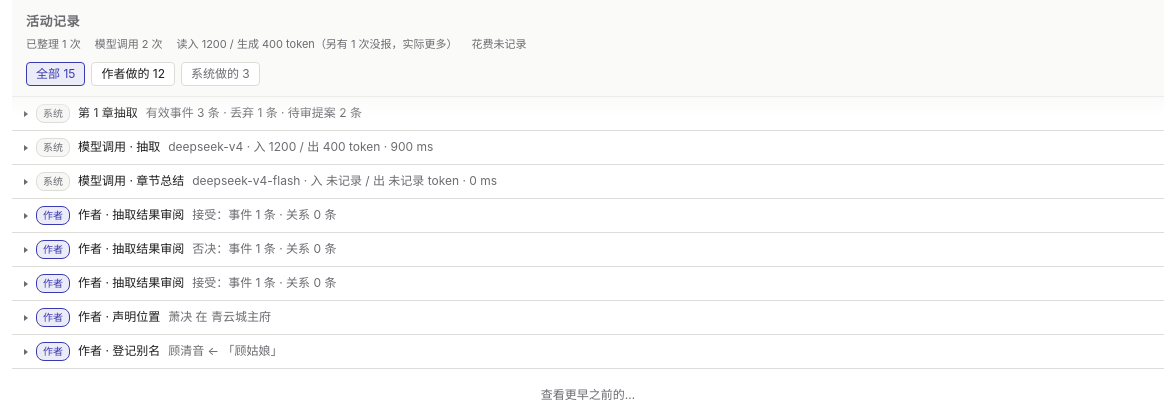
Test: 活动记录 › 作者做的和系统做的一眼分得开，而且能只看其中一种
Expected: the 1st text "作者" is shown, x1=36 y1=206 x2=70 y2=225
Expected: the 1st text "系统" is shown, x1=36 y1=104 x2=70 y2=123
Click the button "作者做的 12".
click(133, 74)  # box x1=91 y1=62 x2=175 y2=86
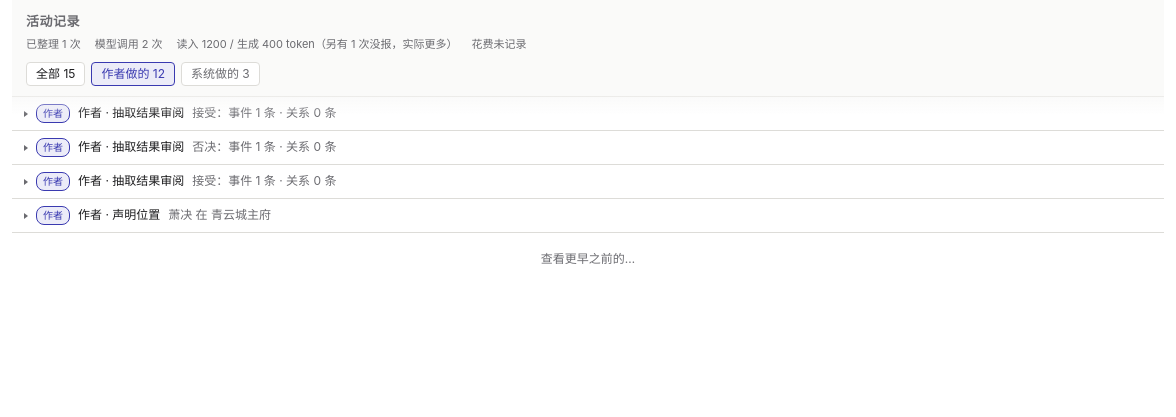
Now the button "第 1 章抽取" is gone
